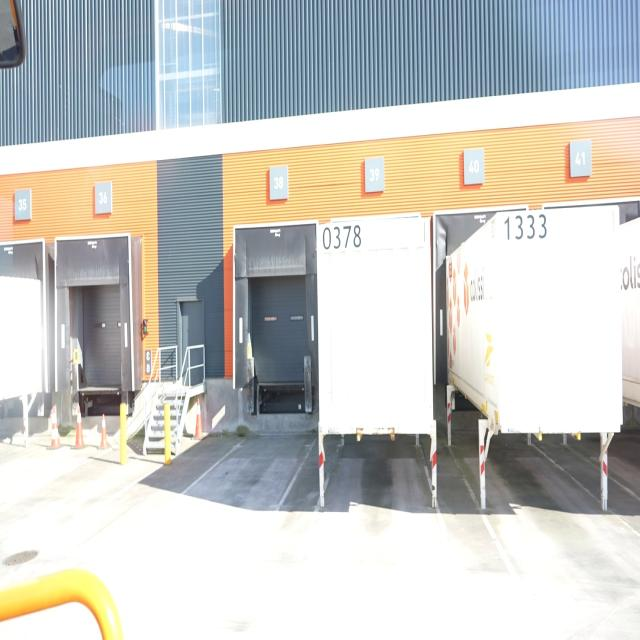Code: (501, 210, 551, 247), (320, 222, 363, 254)
